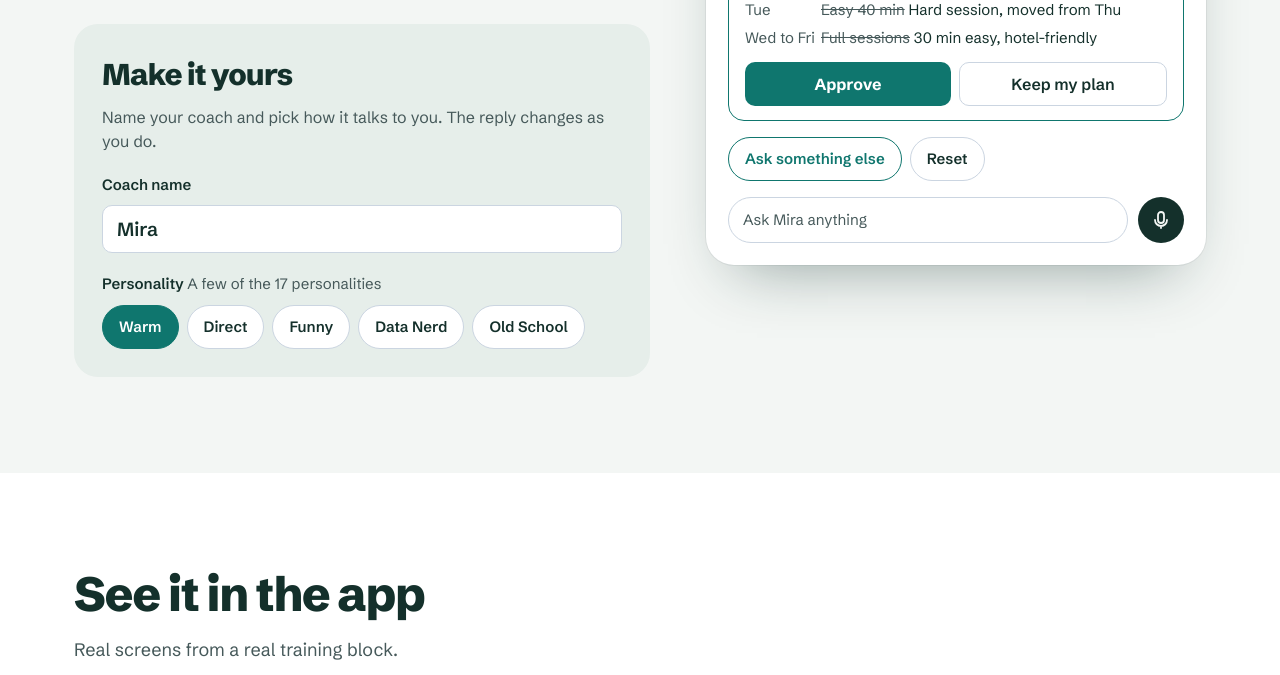
Test case: ask something else, reset and the try limit › cycles the questions and keeps the chosen voice
The image size is (1280, 675).
(page scrolled)
Click the button "Direct" at (226, 327), box x1=187 y1=305 x2=264 y2=349
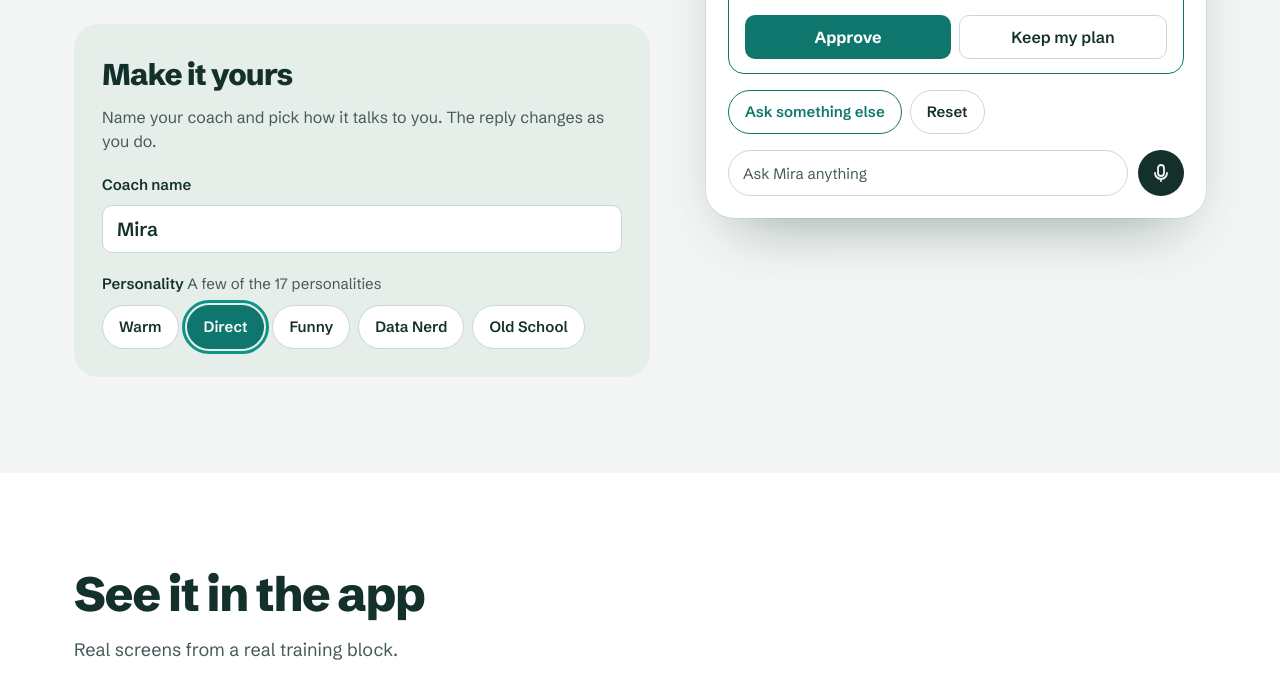
Click the button "Ask something else" at (815, 112), box x1=728 y1=90 x2=902 y2=134
(page scrolled)
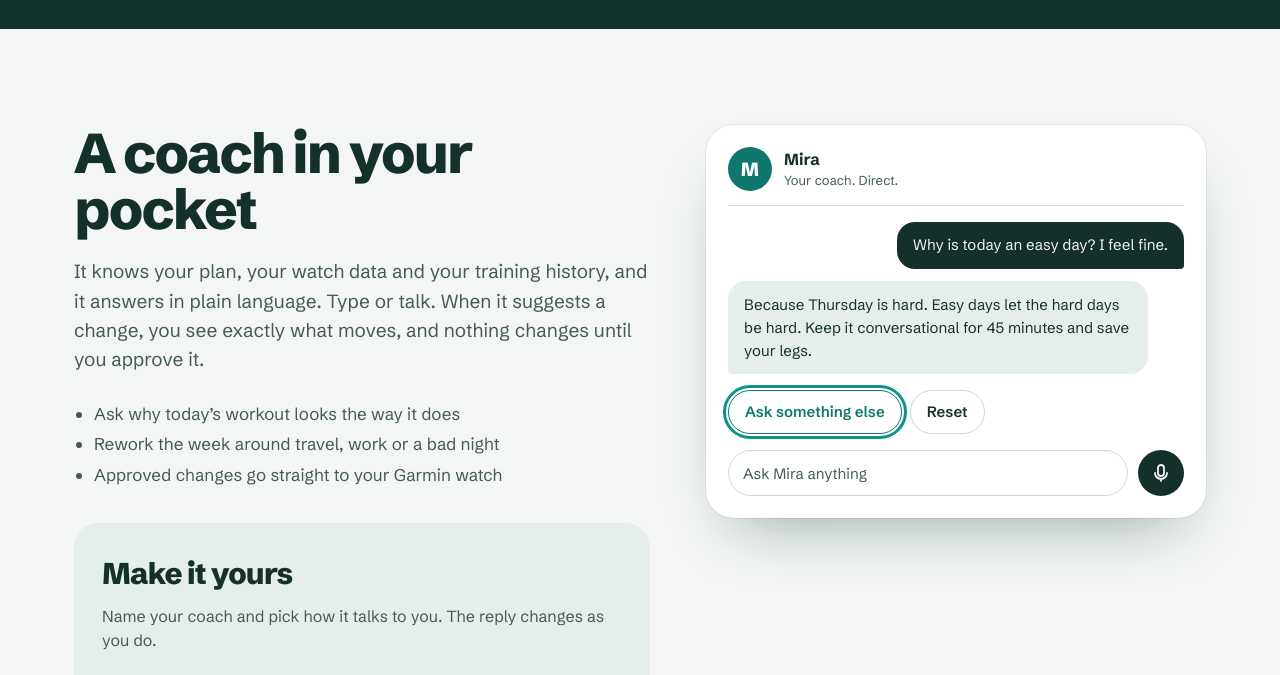
expect the text "Why is today an easy day? I feel fine." is shown: met, box x1=897 y1=222 x2=1184 y2=269
expect the text "Because Thursday is hard. Easy days let the hard days be hard. Keep it conversational for 45 minutes and save your legs." is shown: met, box x1=744 y1=295 x2=1129 y2=360
